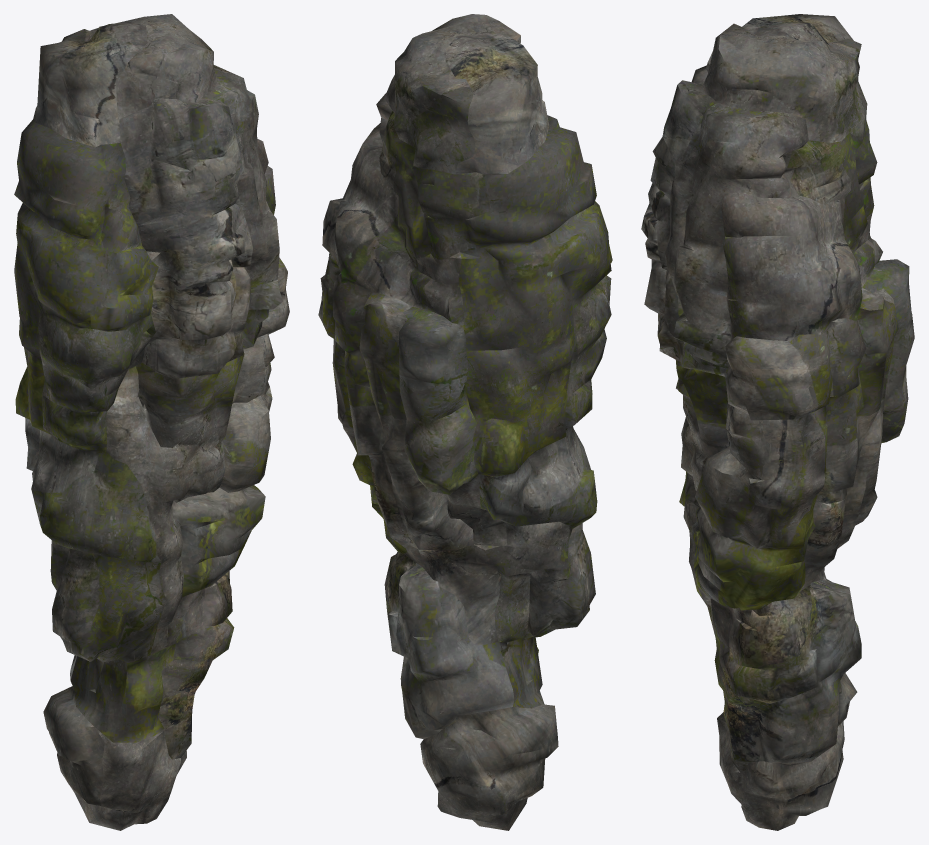
The model's file is Rock10.fbx.
3 renders of one model, left to right at view 1: azimuth 30°, elevation 25°; view 2: azimuth 150°, elevation 25°; view 3: azimuth 270°, elevation 25°, orthographic. The views are drawn at different scales.
Visible parts, largest first — view 1: LV_Veolan_Cliff04_SM_IJH; view 2: LV_Veolan_Cliff04_SM_IJH; view 3: LV_Veolan_Cliff04_SM_IJH.
Boxes of the visible parts, box(x1,y1,x2,y2) form: LV_Veolan_Cliff04_SM_IJH: box(14, 14, 289, 830); LV_Veolan_Cliff04_SM_IJH: box(318, 14, 612, 830); LV_Veolan_Cliff04_SM_IJH: box(641, 14, 914, 830).
Bounding box in the file's own units: 6.82 × 19.88 × 6.17.
1 material, 1 textured.
